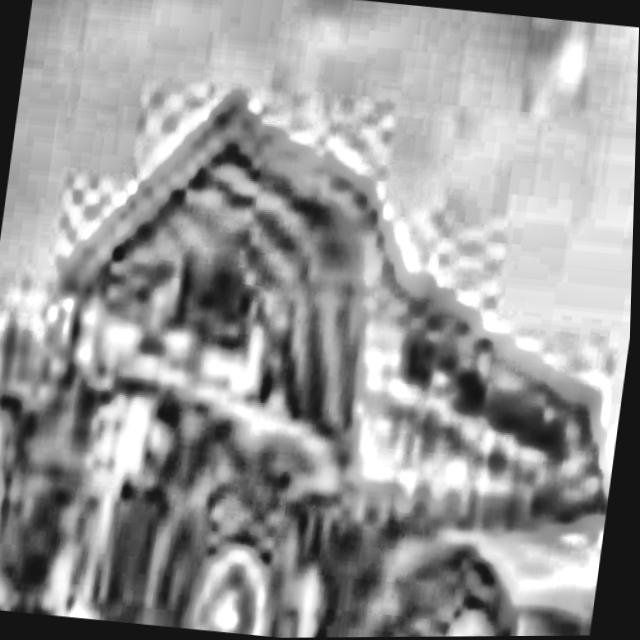dump_truck: (0, 60, 639, 640)
